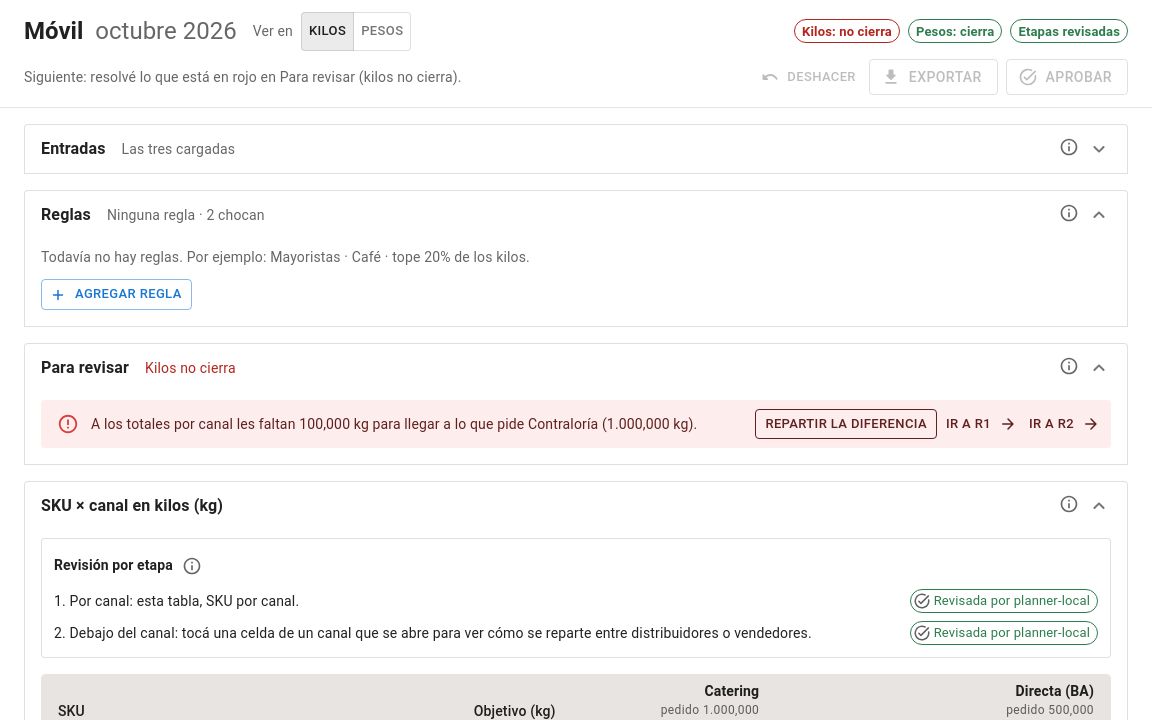
Scenario: MovilPage › si los totales no suman lo que pide Contraloría, ofrece repartir la diferencia
Click the button "Repartir la diferencia" at {"x": 846, "y": 424}, box [755, 409, 937, 439]
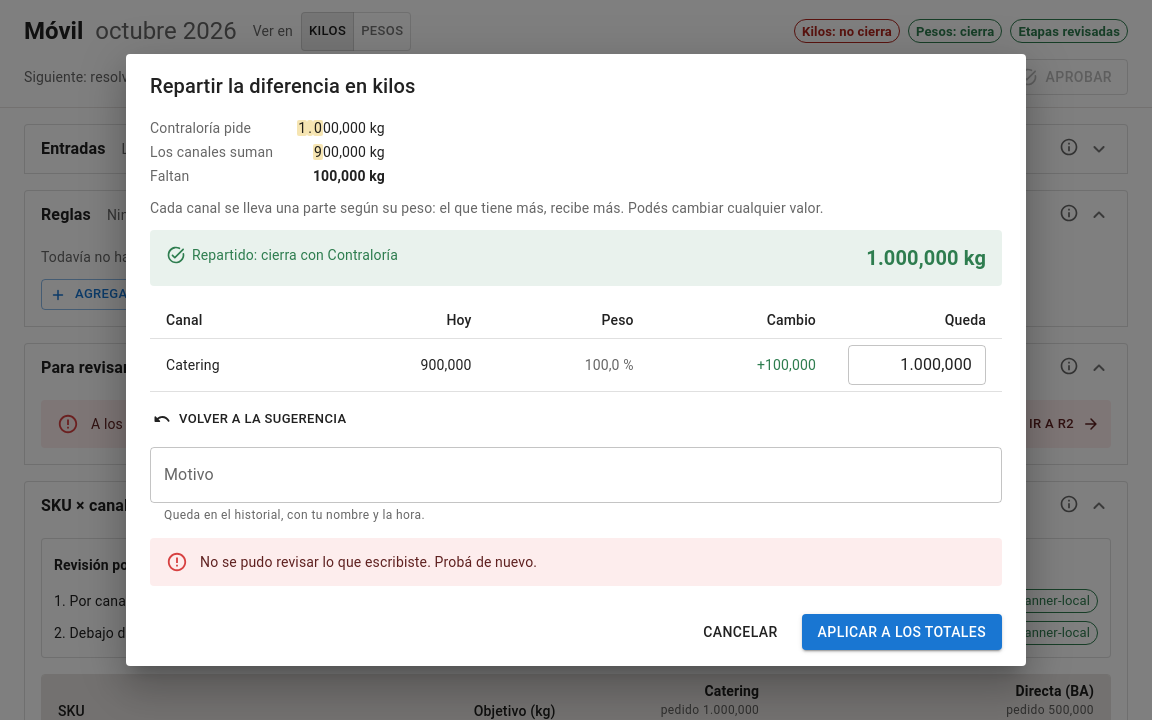
Check: the dialog "Repartir la diferencia en kilos" is shown
